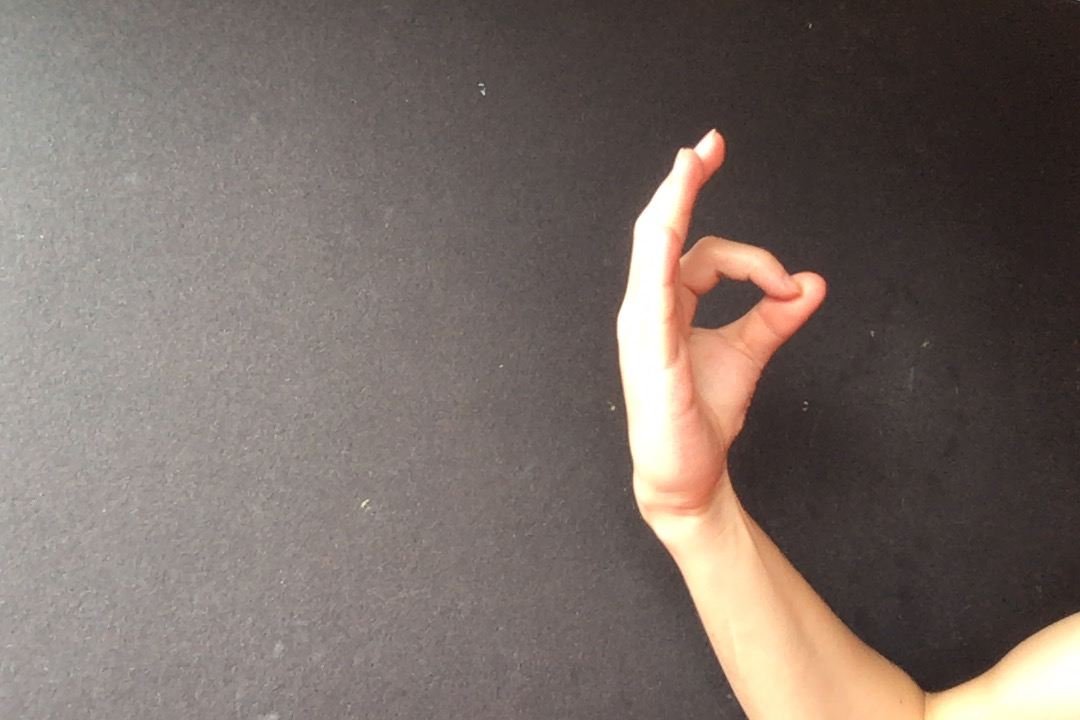oksign: (601, 120, 832, 522)
